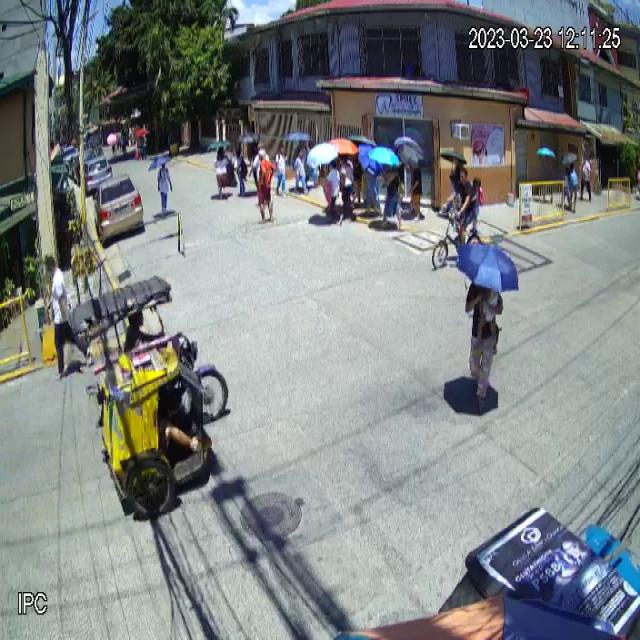Car: (94, 173, 143, 245)
Tricycle: (66, 274, 229, 520)
